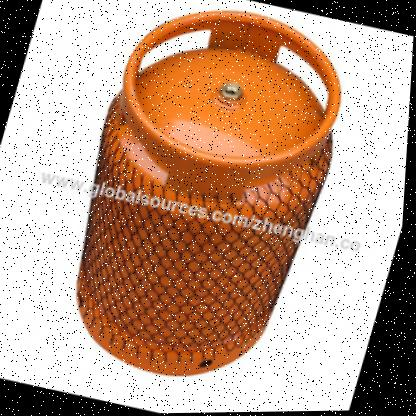gas-tank: (13, 0, 400, 415)
